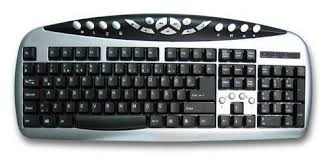keyboard: (11, 11, 314, 148)
